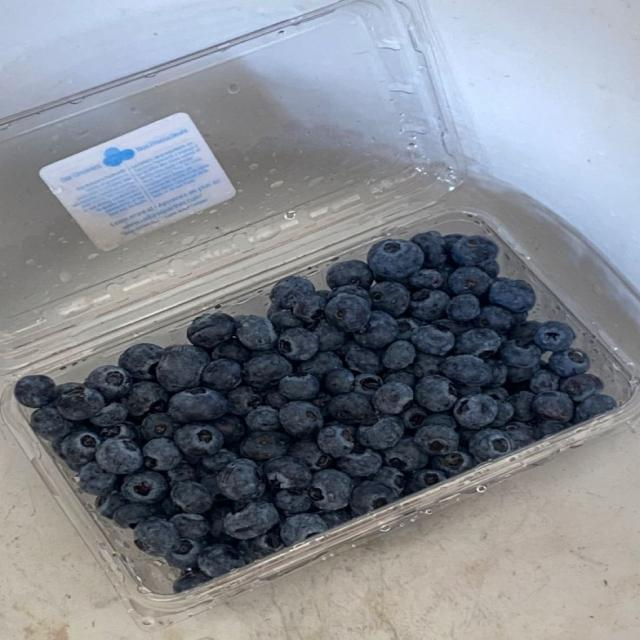blueberry: (156, 345, 210, 392), (367, 239, 424, 281), (167, 387, 227, 423), (224, 501, 279, 539), (218, 459, 265, 500), (308, 470, 353, 510), (244, 353, 293, 389), (85, 365, 133, 401), (95, 438, 143, 474), (325, 294, 371, 331), (187, 313, 234, 349), (354, 311, 398, 349), (174, 423, 223, 457), (134, 518, 179, 555), (119, 344, 164, 380), (123, 381, 168, 417), (328, 393, 377, 426), (56, 387, 105, 420), (350, 481, 396, 516), (280, 401, 323, 438), (263, 457, 311, 490), (383, 437, 428, 472), (489, 279, 535, 313), (198, 544, 245, 577), (357, 416, 404, 449), (121, 471, 168, 504), (441, 355, 491, 386), (454, 394, 498, 429), (415, 376, 457, 412), (280, 514, 326, 546), (30, 406, 72, 441), (270, 276, 314, 309), (469, 429, 513, 462), (240, 432, 290, 461), (451, 236, 498, 266), (288, 440, 333, 471), (455, 328, 501, 358), (411, 325, 455, 356), (237, 316, 277, 350), (14, 375, 55, 408), (414, 425, 459, 455), (337, 447, 382, 477), (171, 481, 213, 513), (60, 431, 100, 464), (201, 359, 241, 392), (447, 267, 492, 296), (239, 532, 283, 561), (409, 290, 450, 321), (278, 329, 319, 360), (534, 321, 575, 352), (317, 423, 354, 457), (79, 462, 117, 495), (143, 438, 182, 470), (373, 383, 413, 414), (299, 351, 343, 379), (412, 233, 446, 268), (560, 374, 603, 401), (500, 340, 541, 368), (576, 394, 617, 422), (548, 350, 590, 377), (475, 305, 513, 334), (311, 319, 346, 350), (166, 538, 202, 568), (432, 451, 474, 476), (345, 344, 381, 373), (227, 386, 261, 416), (371, 466, 406, 495), (114, 503, 154, 528), (213, 415, 245, 446), (382, 340, 415, 370), (293, 294, 326, 324), (212, 338, 251, 363), (208, 503, 233, 542), (171, 514, 209, 539), (274, 490, 313, 514), (90, 402, 127, 427), (140, 413, 174, 440), (407, 470, 446, 493), (267, 306, 304, 330), (200, 449, 238, 472), (324, 368, 355, 396), (447, 294, 479, 321), (500, 423, 534, 448), (408, 353, 442, 378), (509, 319, 541, 345), (95, 492, 127, 518), (246, 406, 279, 431), (327, 285, 370, 304), (431, 318, 474, 337), (173, 571, 210, 593), (508, 391, 534, 422), (408, 269, 445, 289), (100, 423, 139, 441), (507, 363, 540, 384), (489, 400, 514, 427), (530, 370, 559, 393), (354, 374, 383, 396), (485, 360, 508, 386), (383, 370, 416, 388), (534, 421, 567, 439), (402, 406, 427, 429), (320, 510, 351, 528), (424, 413, 458, 428), (398, 318, 421, 340), (54, 382, 82, 399), (265, 390, 288, 410), (311, 393, 331, 416), (160, 496, 179, 518), (443, 234, 463, 254), (456, 383, 481, 397), (480, 260, 499, 278), (484, 387, 508, 400)
